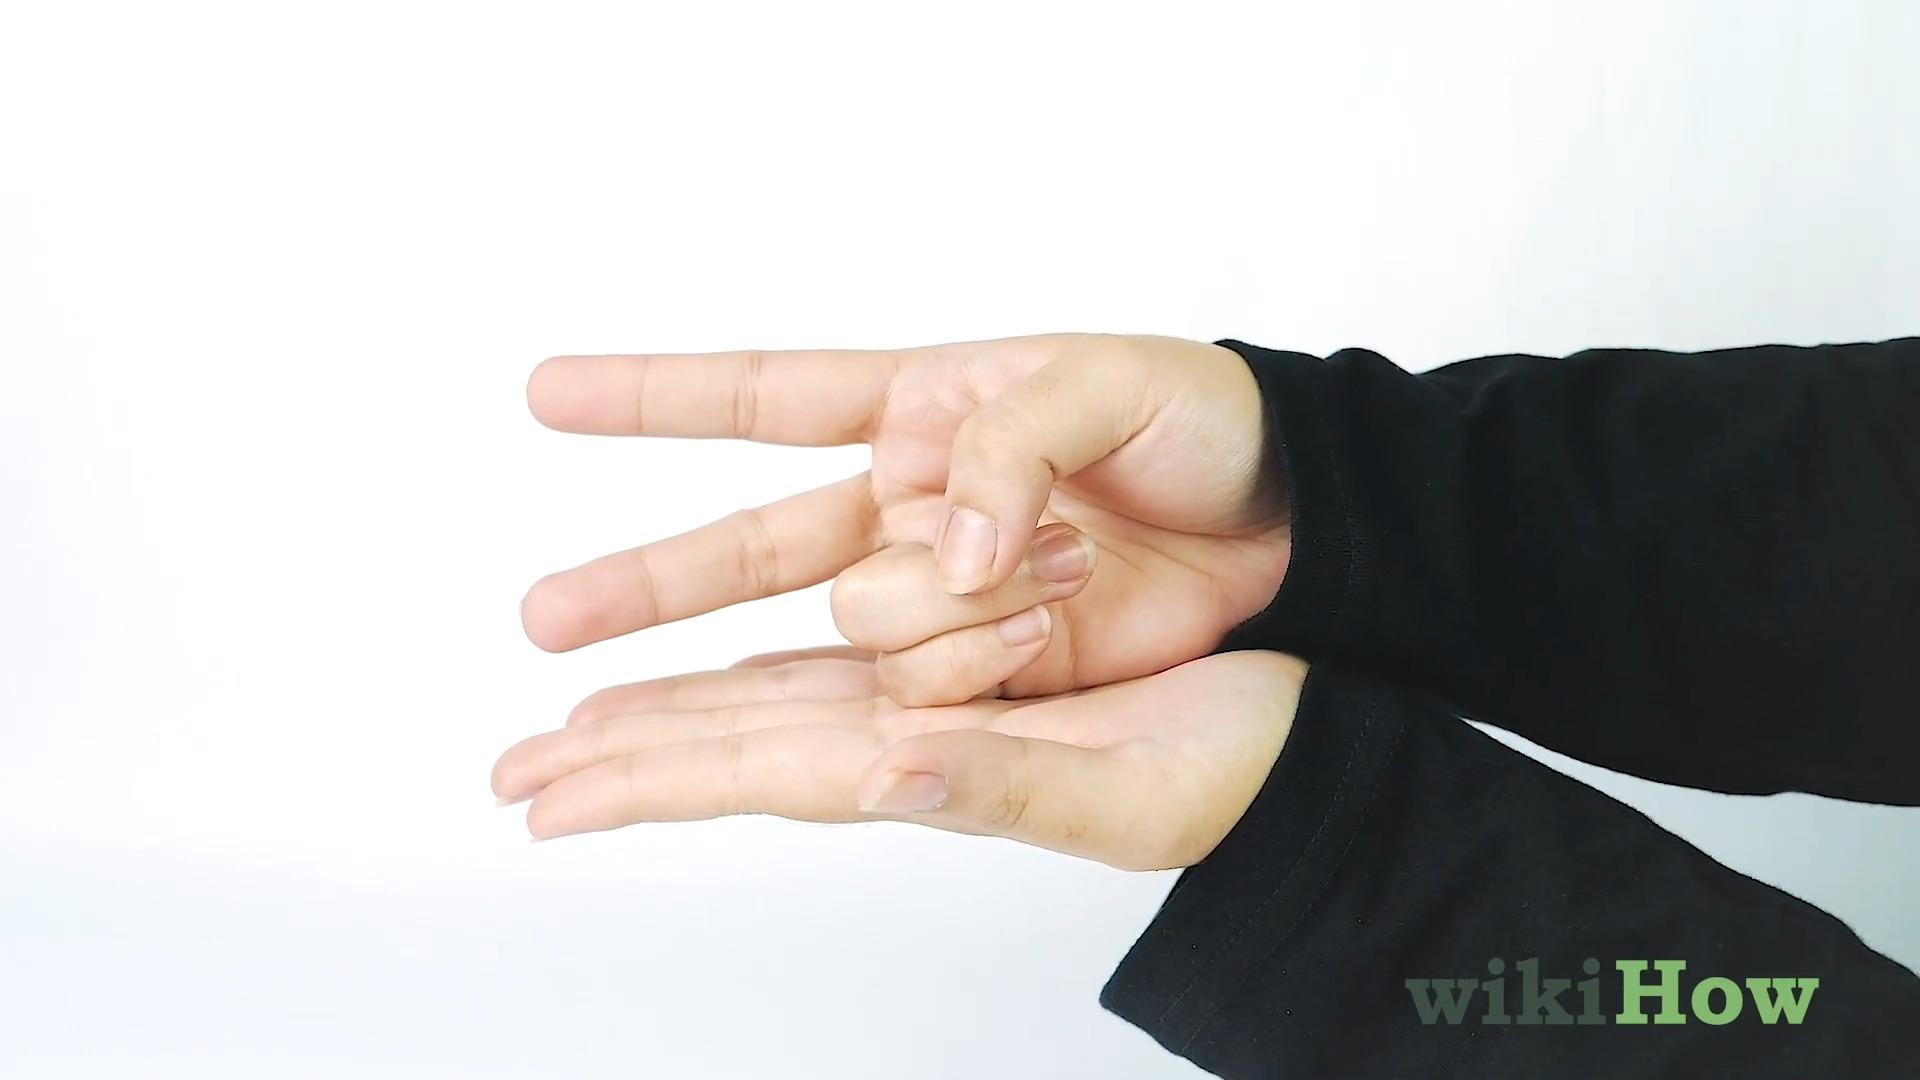Scissors: (520, 323, 1276, 709)
